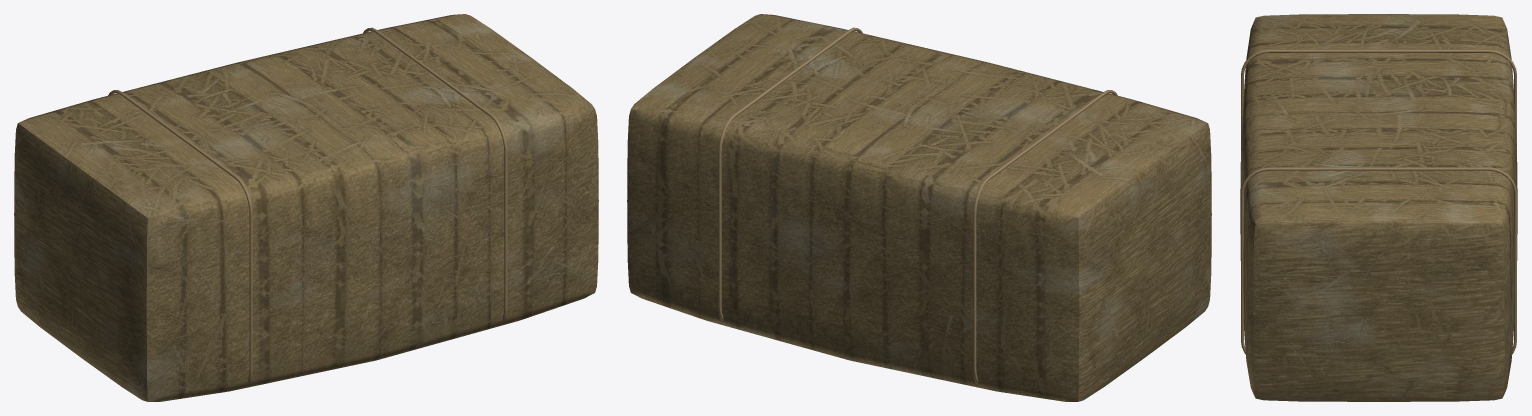
File: haybale.glb
3 views of the same model, side by side, from view 1: azimuth 30°, elevation 25°; view 2: azimuth 150°, elevation 25°; view 3: azimuth 270°, elevation 25° (orthographic). The views are drawn at different scales.
Visible parts, largest first — view 1: haybale, haybale_twine; view 2: haybale, haybale_twine; view 3: haybale, haybale_twine.
Part boxes in pixels (x1=…): haybale: x1=14, y1=14, x2=598, y2=401; haybale_twine: x1=108, y1=27, x2=507, y2=384; haybale: x1=627, y1=14, x2=1211, y2=401; haybale_twine: x1=718, y1=27, x2=1117, y2=384; haybale: x1=1240, y1=14, x2=1517, y2=401; haybale_twine: x1=1241, y1=49, x2=1516, y2=354.
Bounding box in the file's own units: 0.9383 × 0.4112 × 0.5127.
2 materials, 1 textured.
